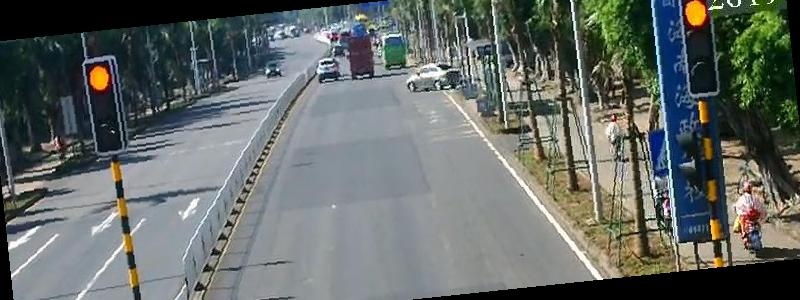red: (86, 64, 112, 91), (685, 1, 710, 27)
